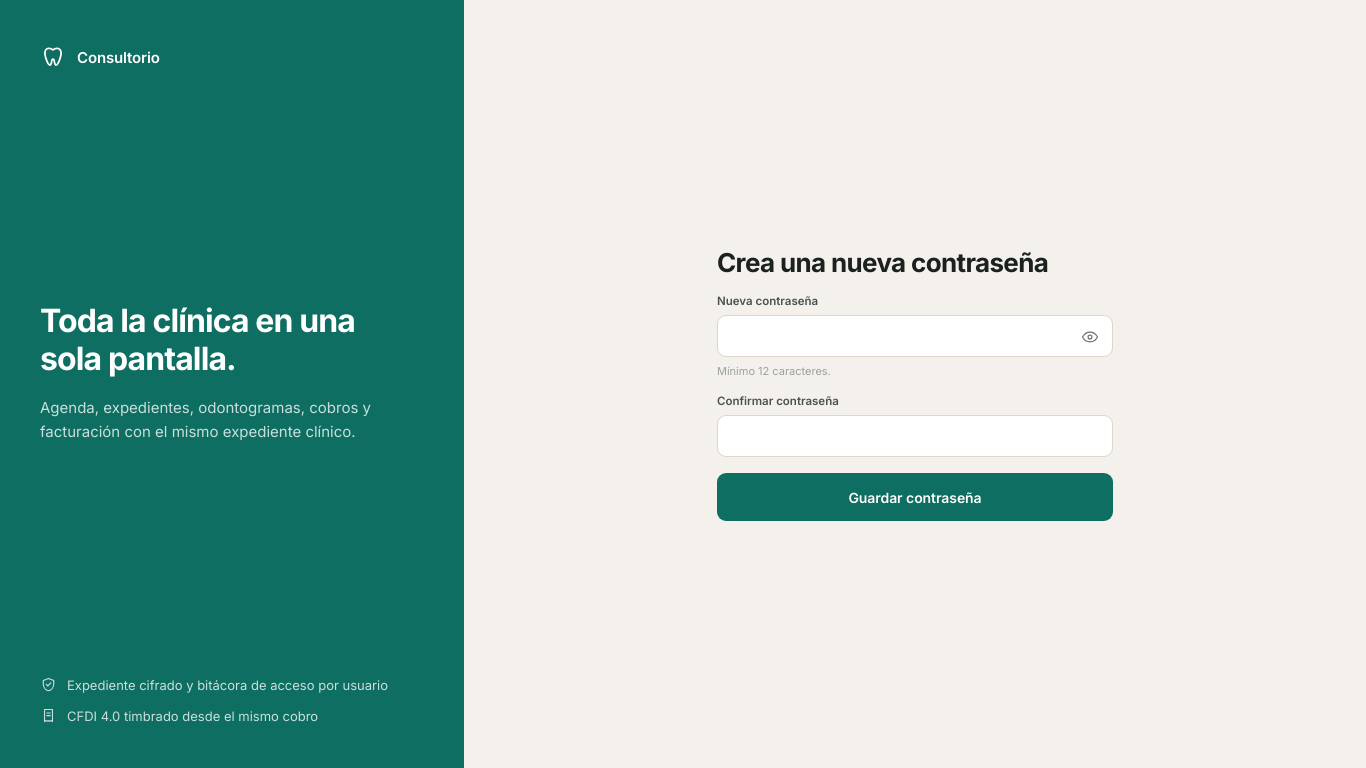
Scenario: <ResetPasswordPage /> › validates the password confirmation before submitting
Type "abcdefghijkl" into the password field labelled "Nueva contraseña" at (915, 336), box [717,315,1113,357]
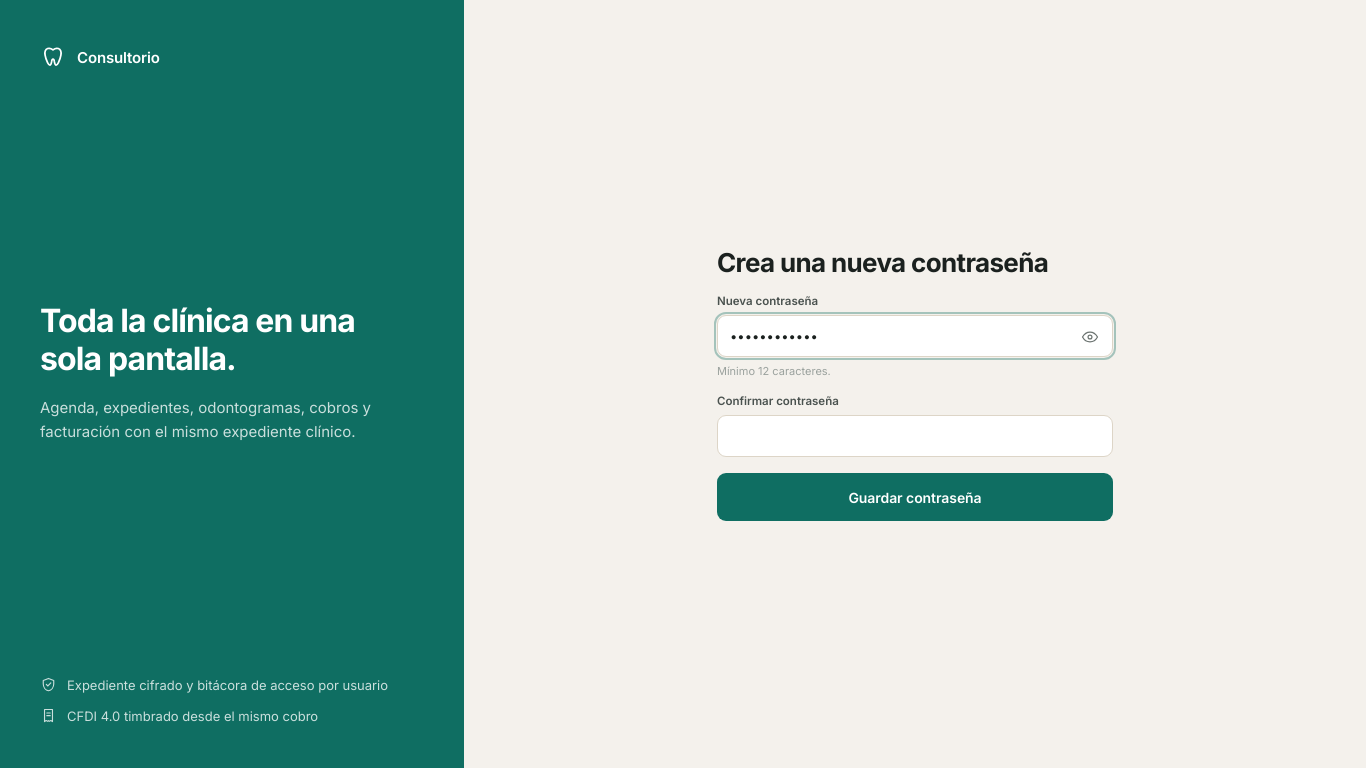
Type "different-one" into the password field labelled "Confirmar contraseña" at (915, 436), box [717,415,1113,457]
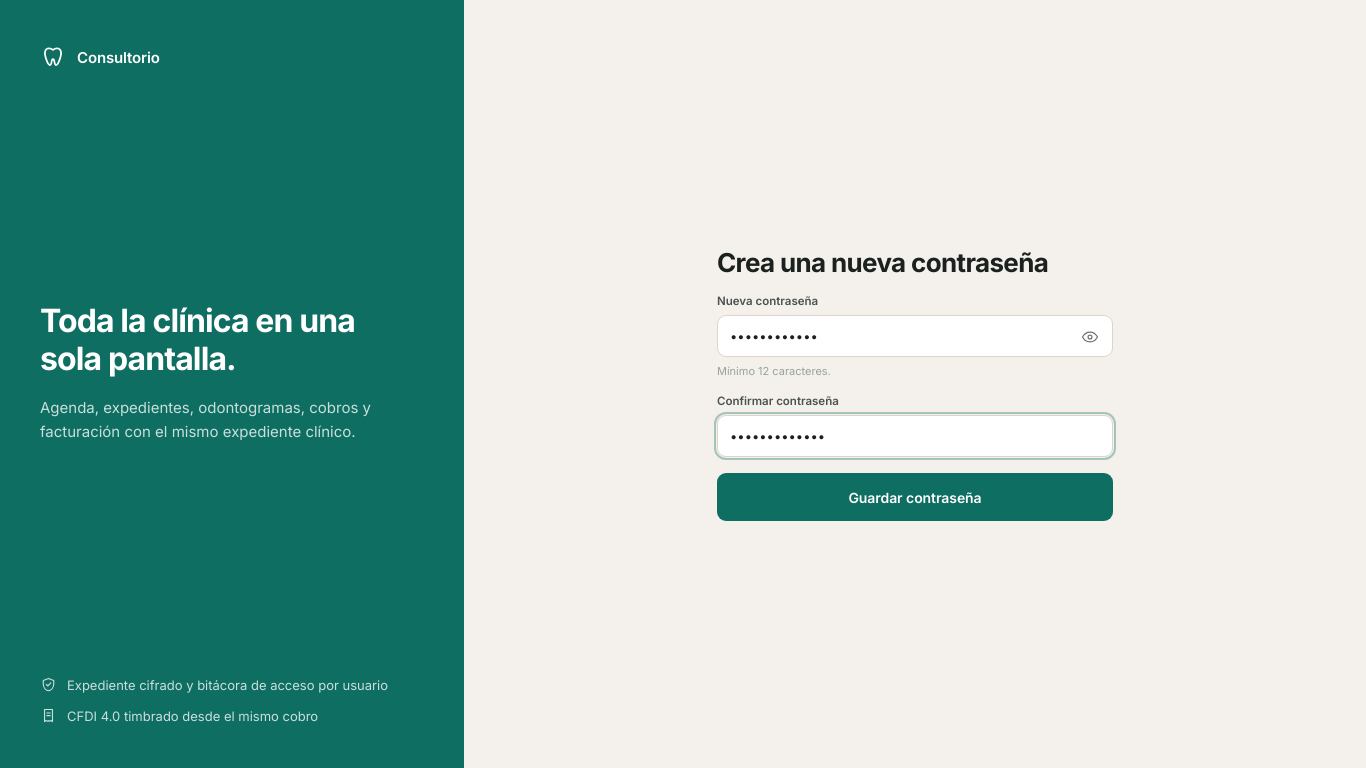
Click the button "Guardar contraseña" at (915, 497), box [717,473,1113,521]
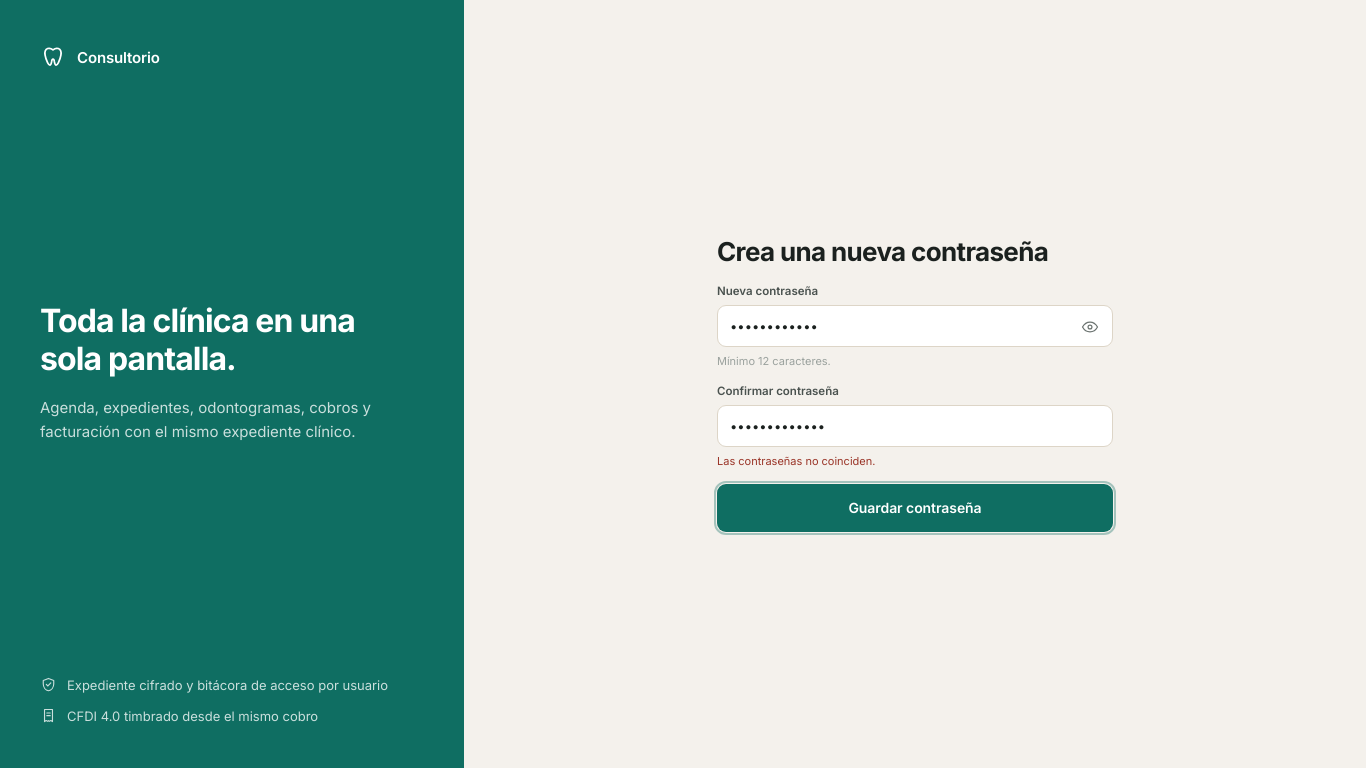
Expected: the text "Las contraseñas no coinciden." is shown, [717,454,875,468]
